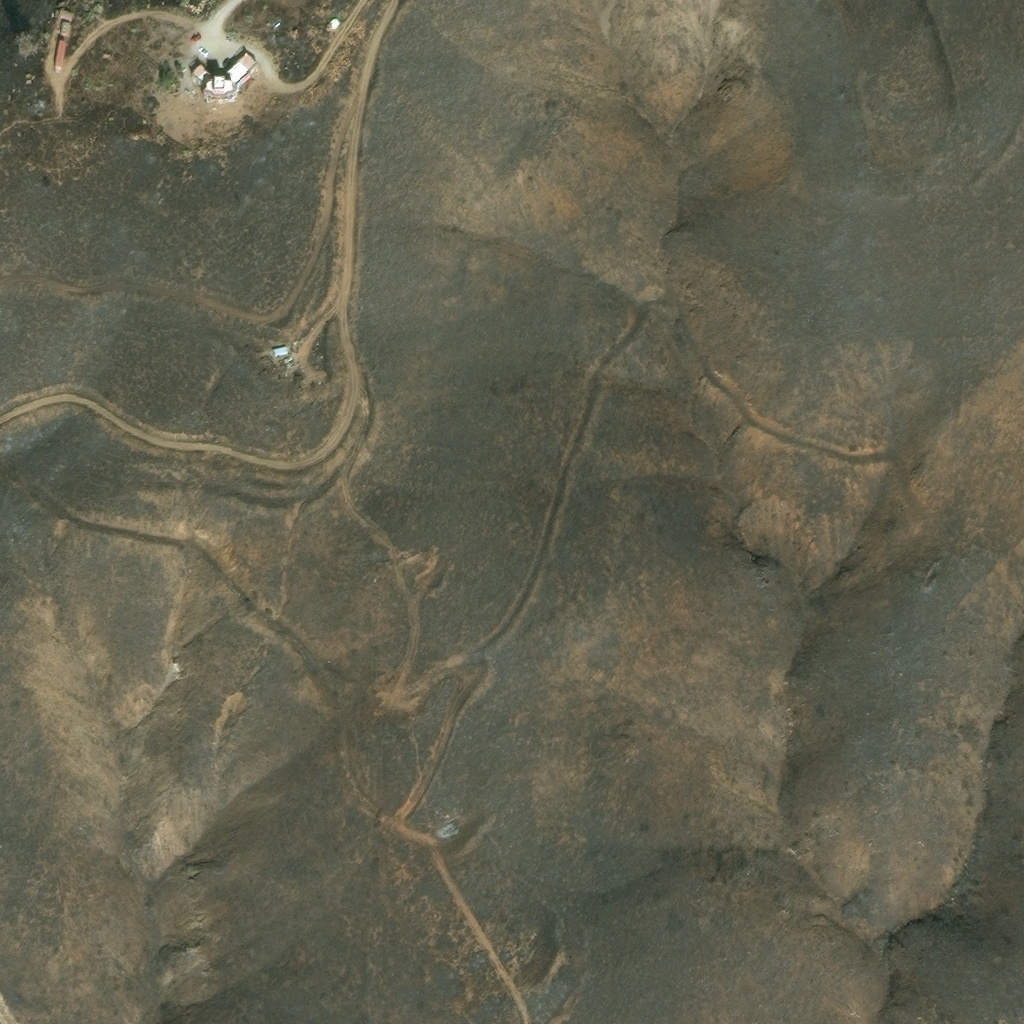0 no-damage: (224, 53, 257, 86), (204, 80, 234, 98), (190, 63, 212, 86), (53, 39, 67, 73), (271, 346, 288, 359), (60, 19, 71, 34), (330, 20, 339, 32)
3 destroyed: (441, 823, 459, 837)
